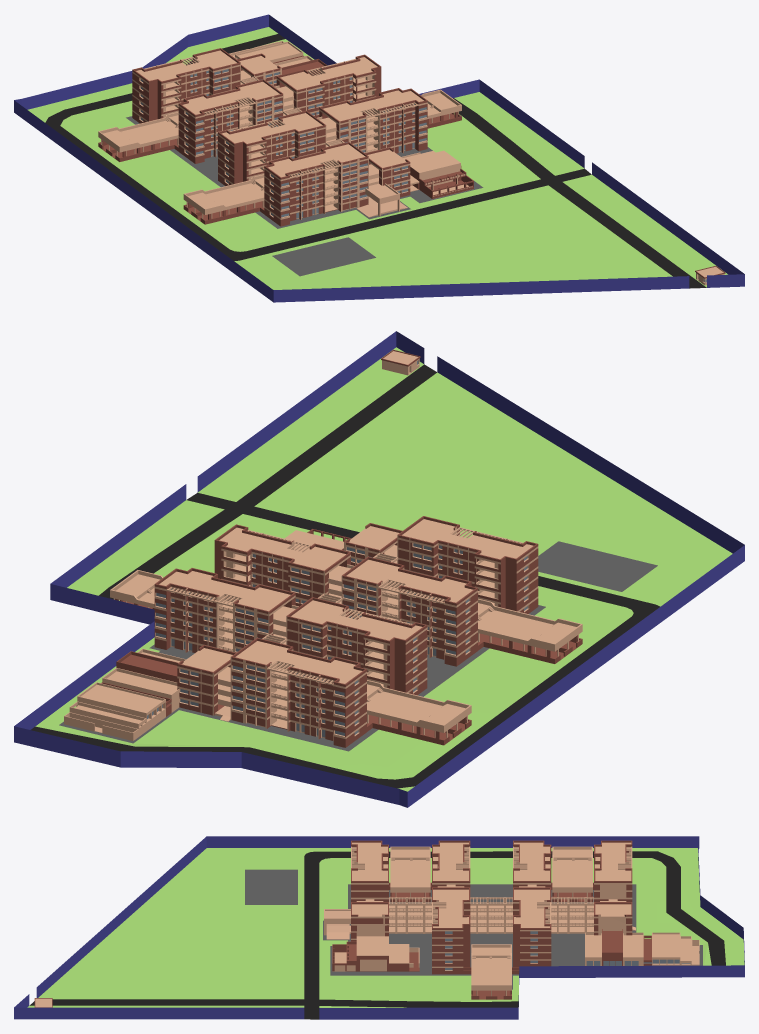
3 views of the same model, one above another, from view 1: azimuth 30°, elevation 25°; view 2: azimuth 150°, elevation 25°; view 3: azimuth 270°, elevation 25° (orthographic). The views are drawn at different scales.
Visible parts, largest first — view 1: Hall_13; view 2: Hall_13; view 3: Hall_13.
Part boxes in pixels (x1=…): Hall_13: x1=14, y1=14, x2=744, y2=302; Hall_13: x1=14, y1=331, x2=744, y2=807; Hall_13: x1=14, y1=836, x2=744, y2=1019.
Size of the model in its own units: 15.92 by 2 by 28.66.
